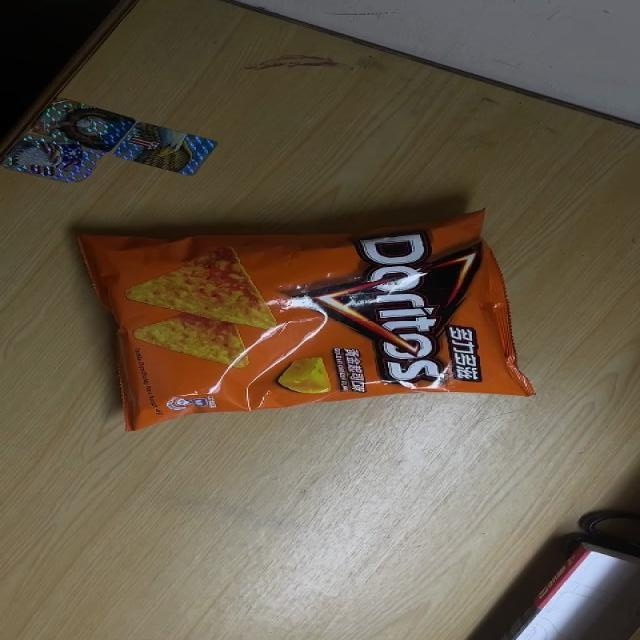Doritos: (74, 207, 537, 432)
